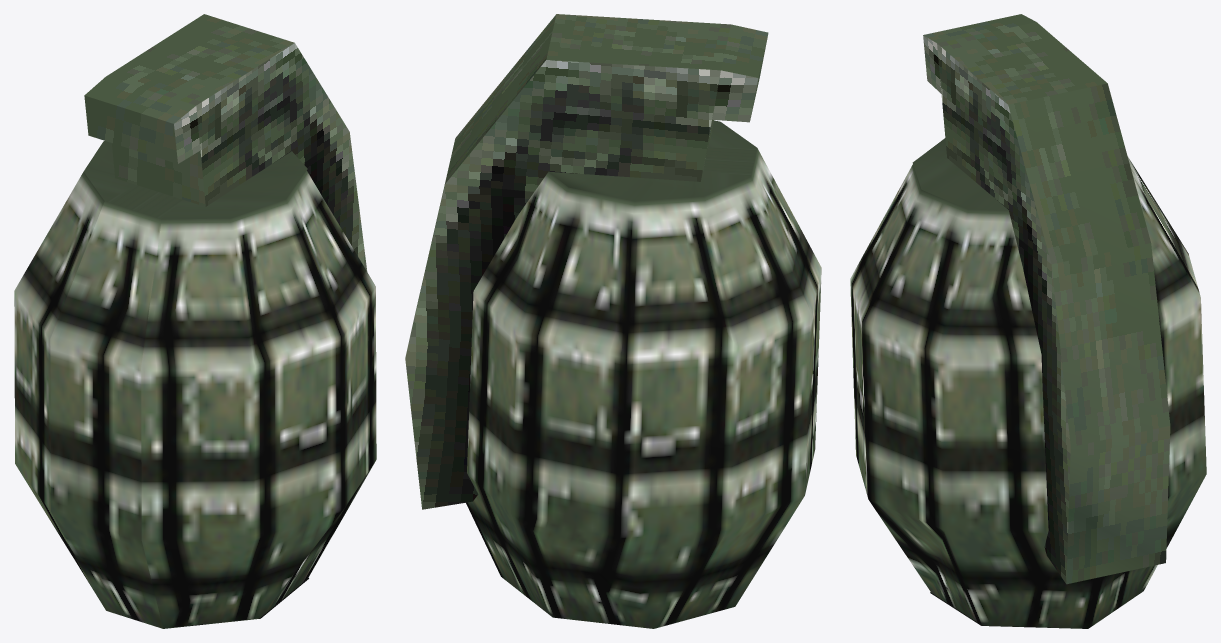
File: p_grenade2.glb
The picture shows the model from 3 angles, left to right: view 1: azimuth 30°, elevation 25°; view 2: azimuth 150°, elevation 25°; view 3: azimuth 270°, elevation 25°; orthographic projection. The views are drawn at different scales.
Parts seen in each view (by area): view 1: p_grenade2; view 2: p_grenade2; view 3: p_grenade2.
Part boxes in pixels (bbox=[...]): p_grenade2: bbox=[14, 14, 376, 628]; p_grenade2: bbox=[405, 14, 821, 628]; p_grenade2: bbox=[850, 14, 1206, 628].
Size of the model in its own units: 2.97 by 4.46 by 2.63.
Materials: 2 (2 with a texture image).
